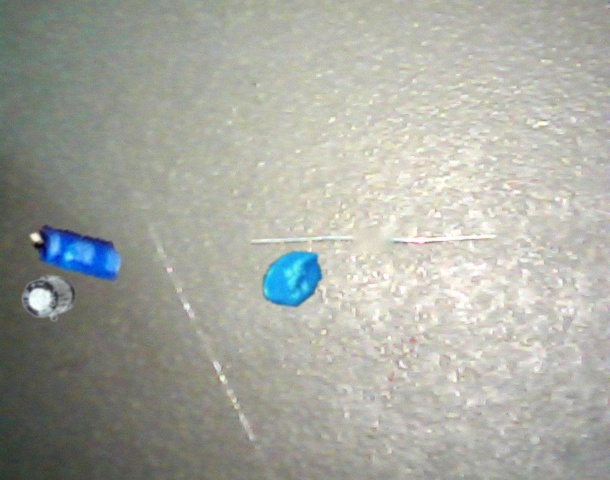capacitor: (30, 225, 121, 283), (263, 251, 322, 307), (22, 275, 76, 321)
